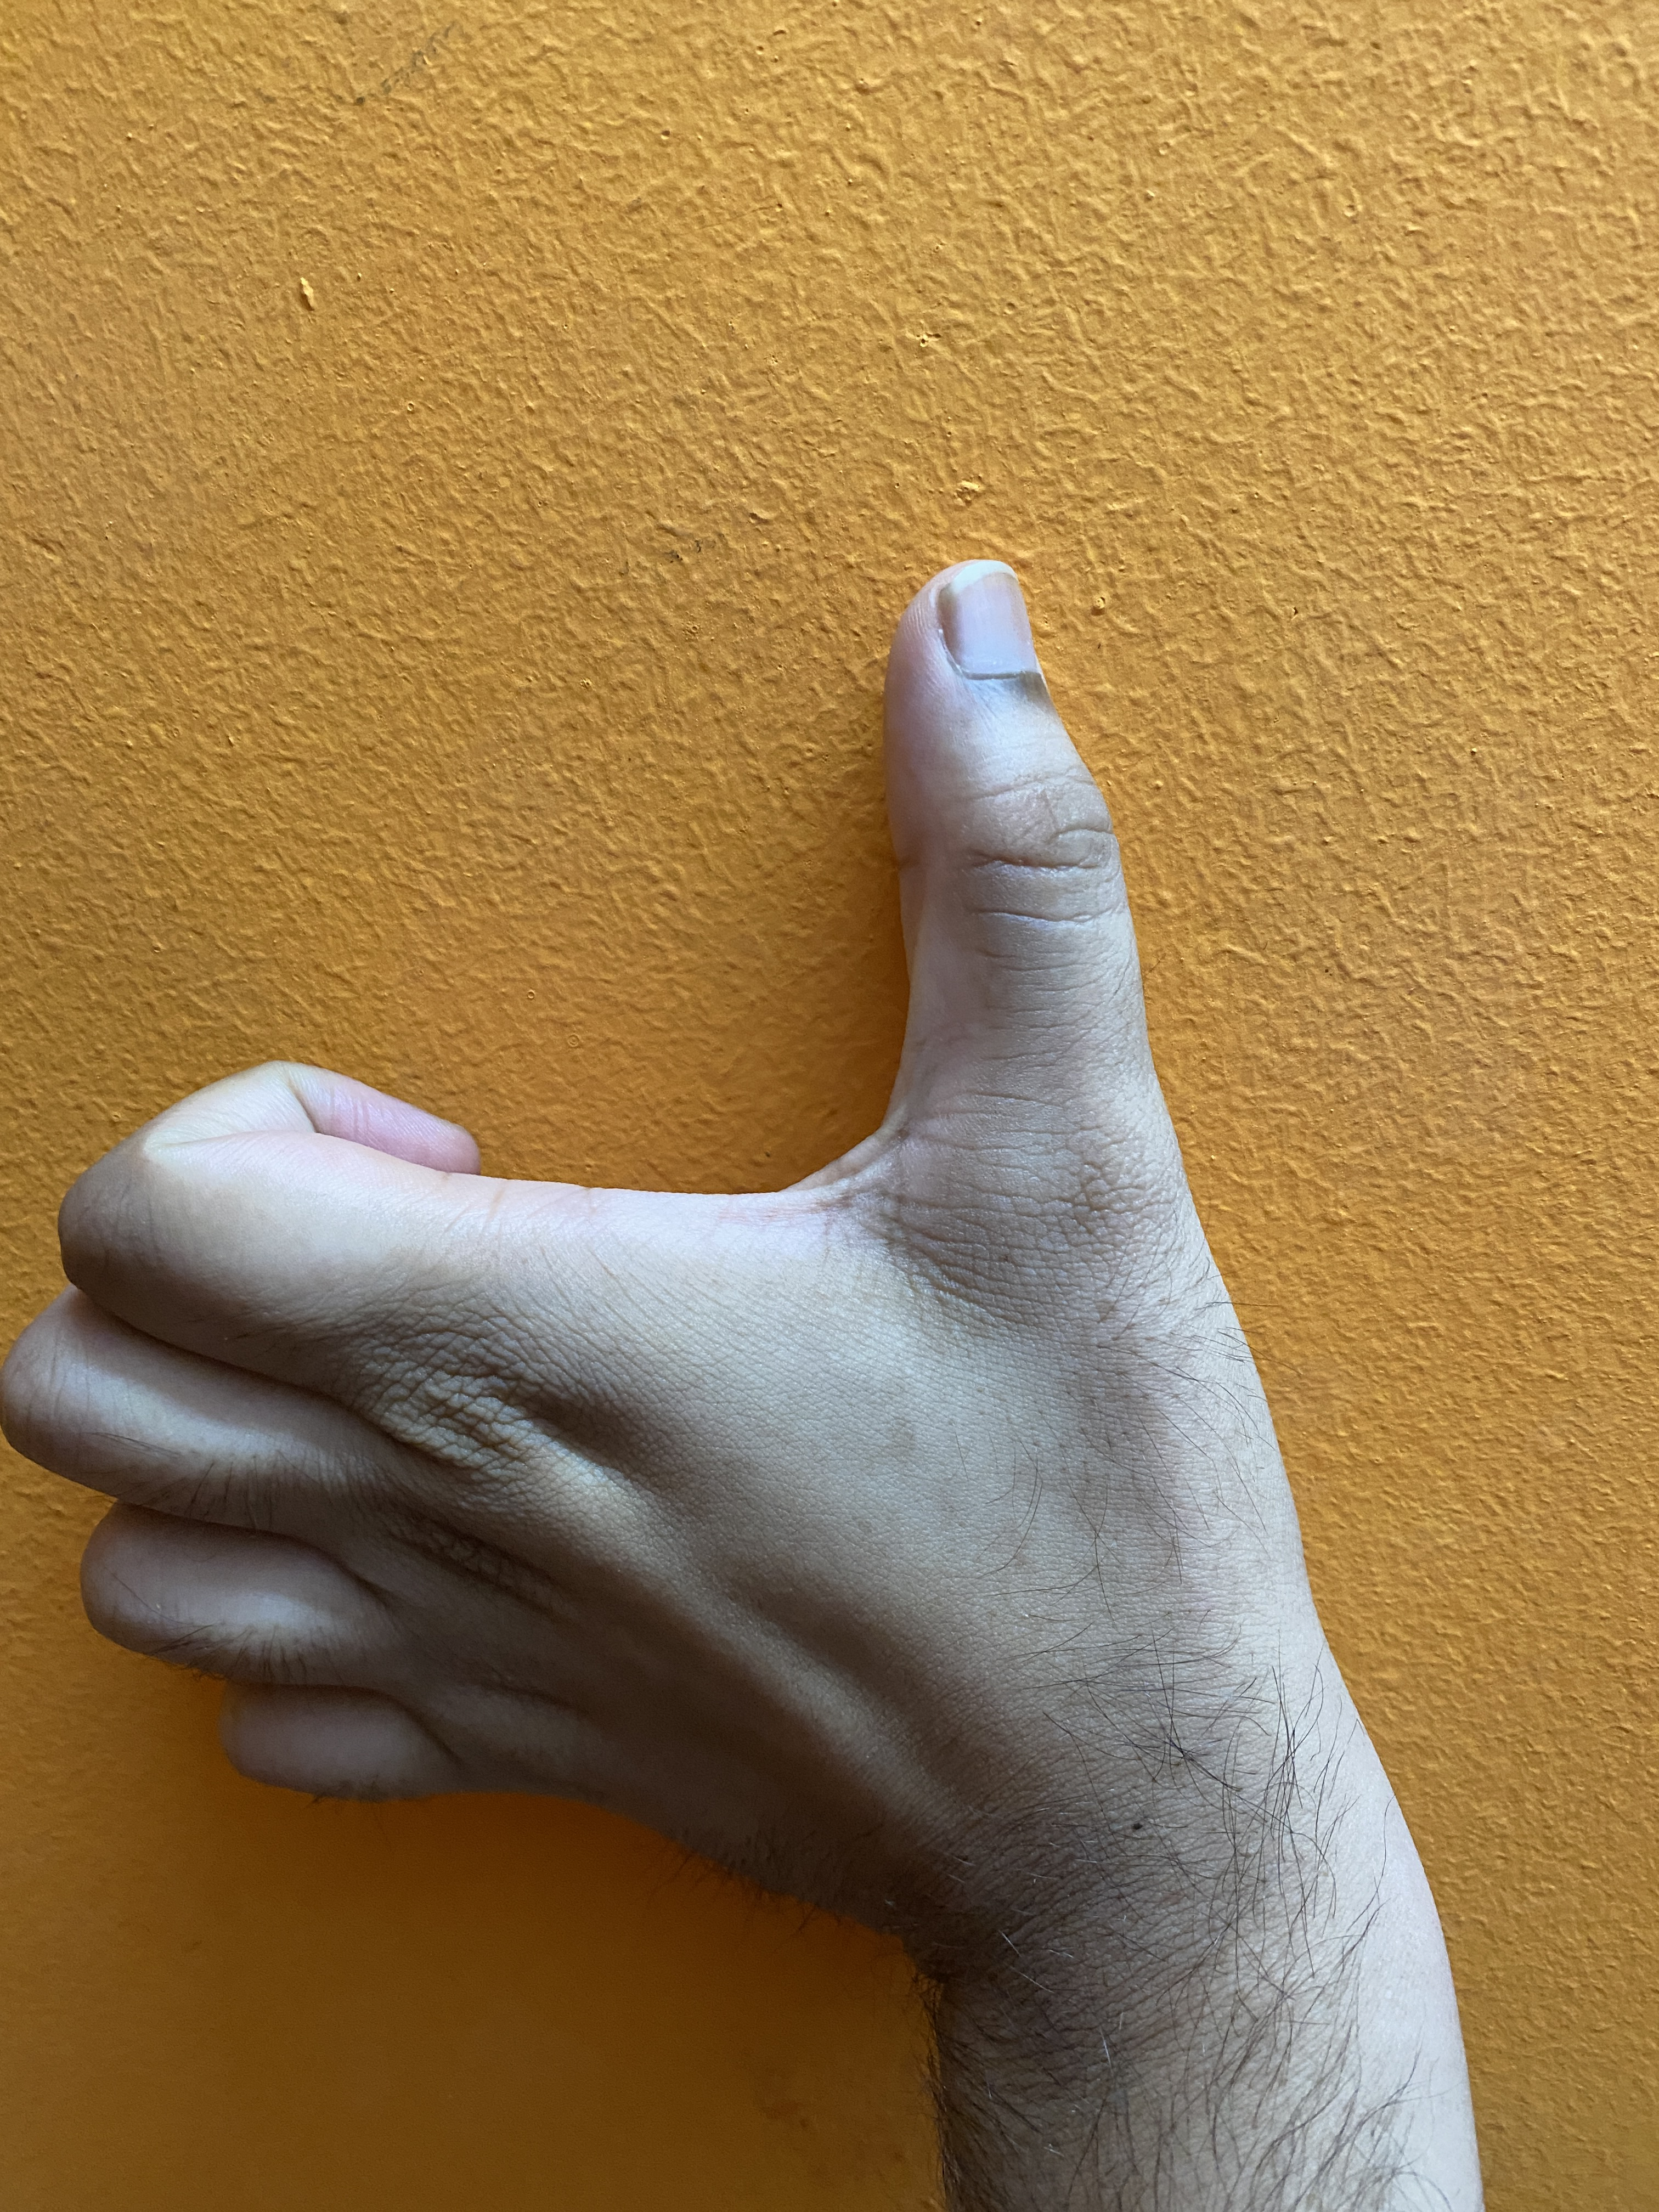up: (138, 442, 1506, 2008)
